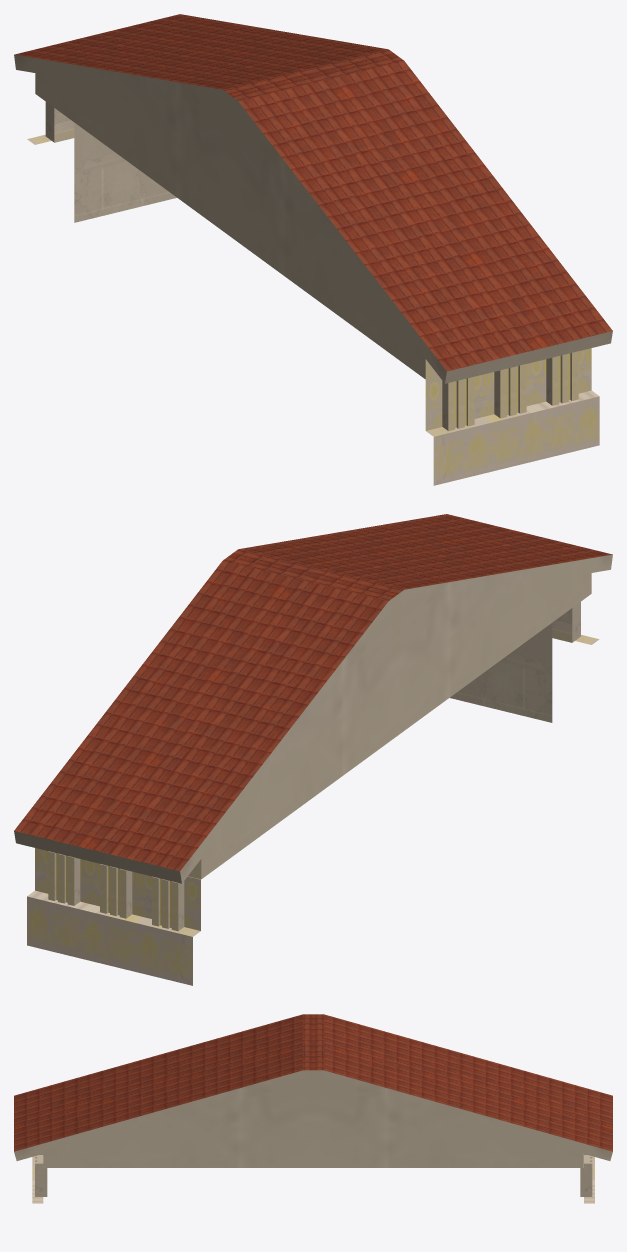
File: Sm_temple_roof_module.glb
The picture shows the model from 3 angles, top to bottom: view 1: azimuth 30°, elevation 25°; view 2: azimuth 150°, elevation 25°; view 3: azimuth 270°, elevation 25°; orthographic projection. The views are drawn at different scales.
Visible parts, largest first — view 1: Sm_temple_roof_module; view 2: Sm_temple_roof_module; view 3: Sm_temple_roof_module.
Boxes of the visible parts, left/top/right/bottom form: Sm_temple_roof_module: left=14, top=14, right=612, bottom=485; Sm_temple_roof_module: left=14, top=514, right=612, bottom=985; Sm_temple_roof_module: left=14, top=1014, right=612, bottom=1203.
Bounding box in the file's own units: 5.75 × 8 × 25.99.
Materials: 2 (2 with a texture image).
